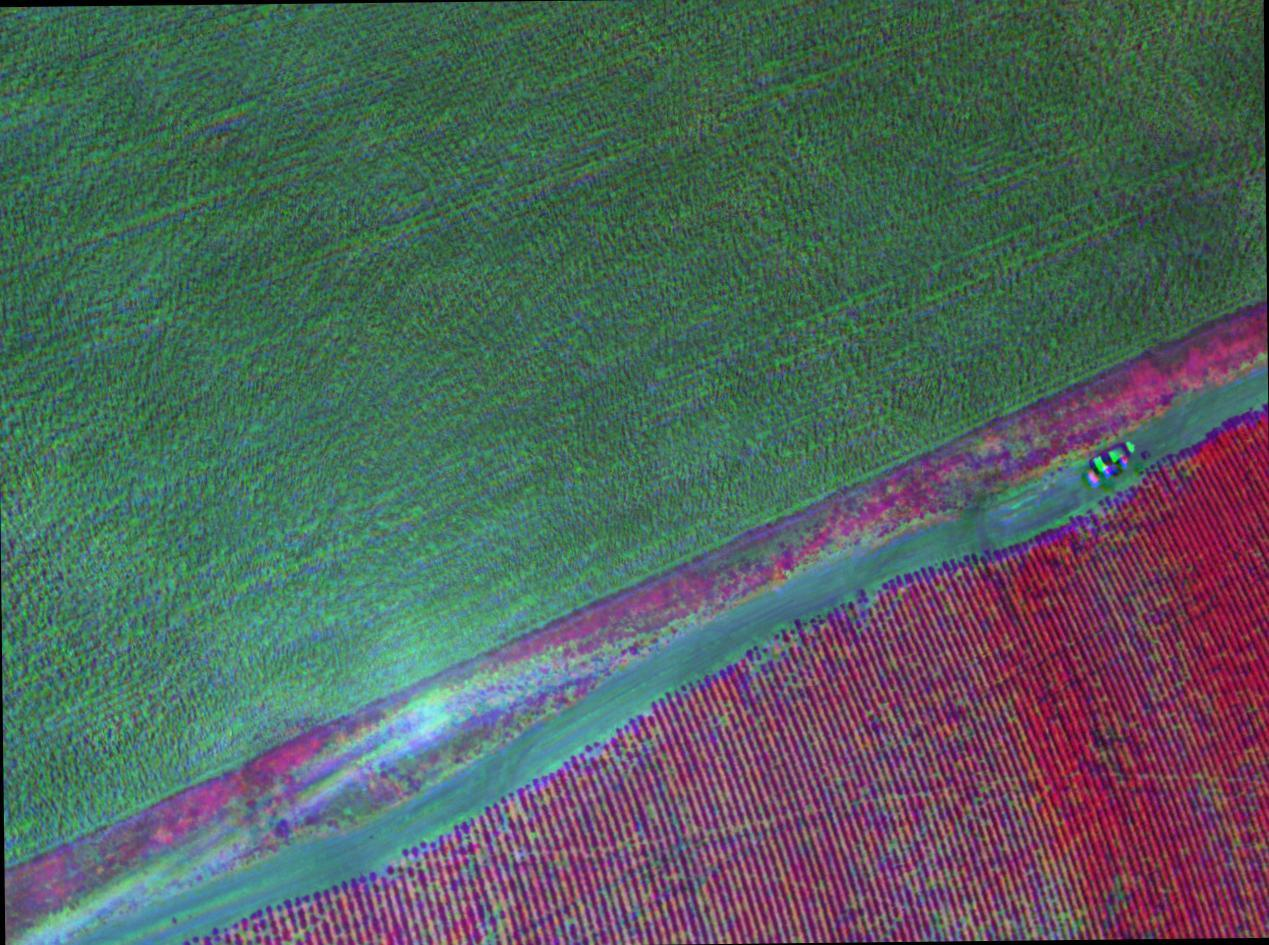dc: (864, 782, 934, 873), (1028, 862, 1102, 945), (488, 790, 550, 855), (854, 585, 922, 635), (747, 632, 806, 677), (472, 898, 528, 945), (377, 851, 419, 894)
